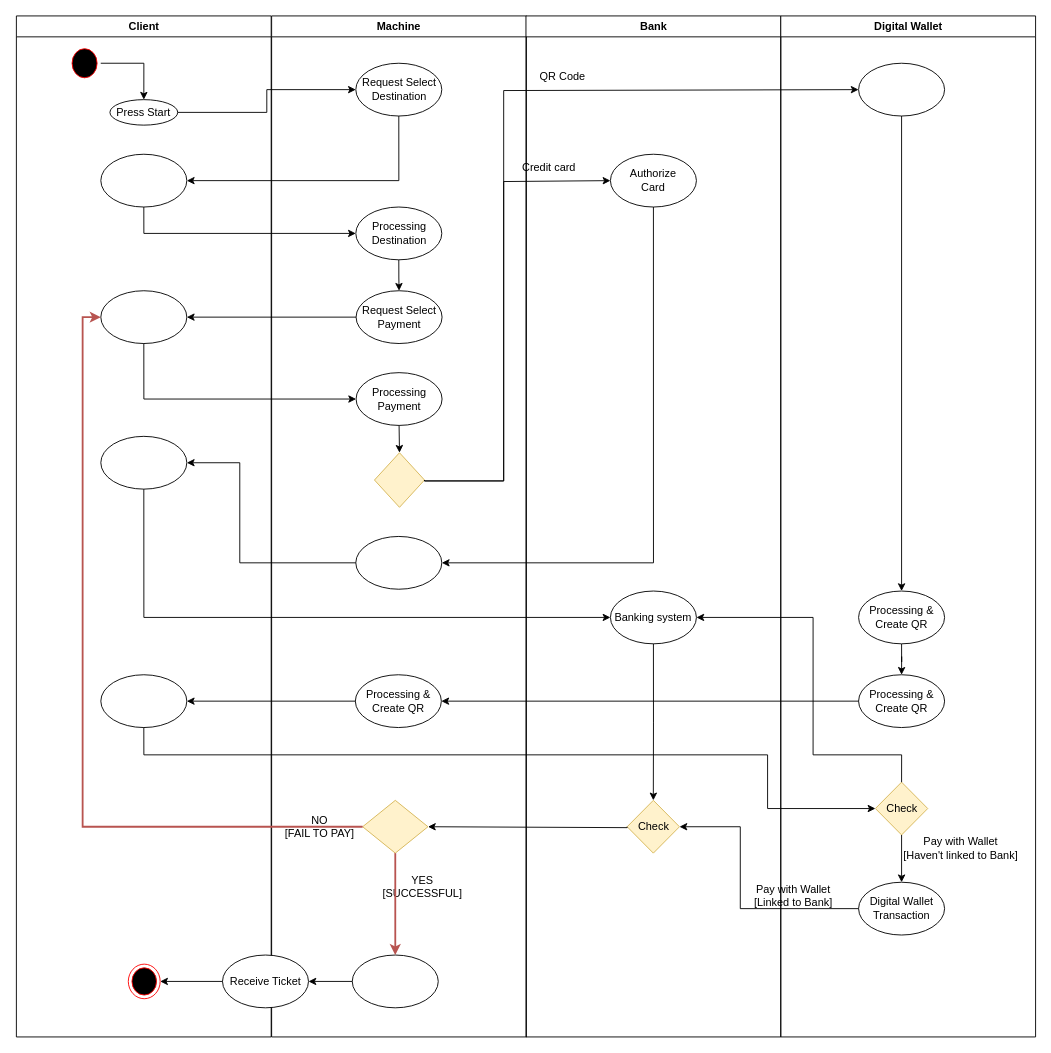
Some shapes in this 1051 by 1053 pixel diagram are drawn without their labels. Here are the shapes that lost their labels. From the top down, the centre of each, then its label:
pixel 901 89: Authorize Wallet
pixel 143 180: Select Destination
pixel 143 317: Select Payment
pixel 143 462: Input Card
pixel 399 479: Method
pixel 398 562: Request to Input Card
pixel 143 701: Scan QR
pixel 395 826: Process
pixel 394 981: Create Ticket
